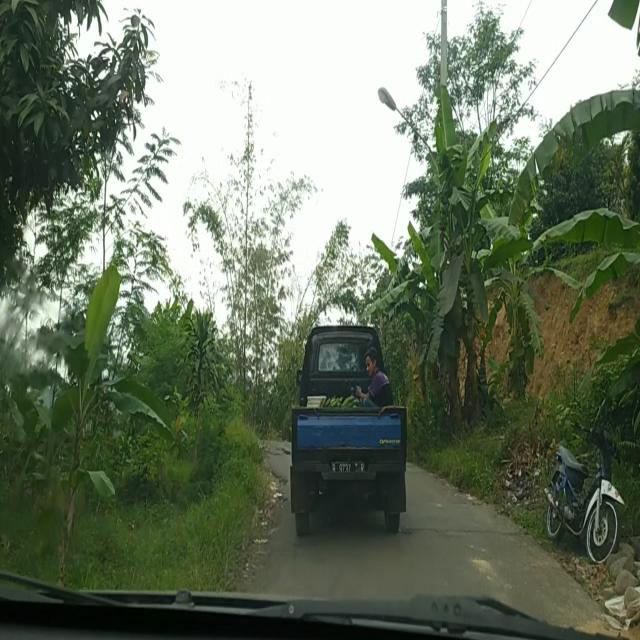Sewer Cover: (402, 518, 519, 540)
